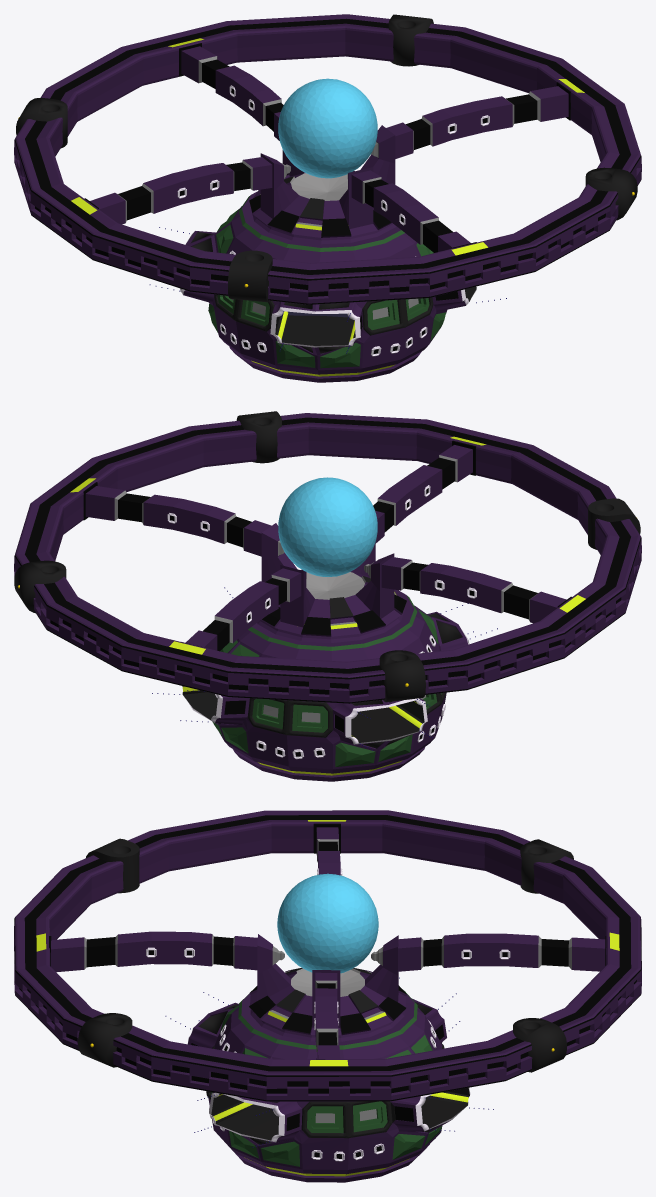
Rendered from marss01.glb.
The picture shows the model from 3 angles, top to bottom: view 1: azimuth 30°, elevation 25°; view 2: azimuth 150°, elevation 25°; view 3: azimuth 270°, elevation 25°; orthographic projection.
Parts seen in each view (by area): view 1: ring, staion, blue sun, clamp, clamp 2, clamp 3, clamp 4; view 2: ring, staion, blue sun, clamp 4, clamp 3, clamp 2, clamp; view 3: ring, staion, blue sun, clamp 2, clamp 3, clamp, clamp 4.
Part boxes in pixels (box(x1,y1,x2,y2)): ring: box(14, 14, 641, 304); staion: box(180, 191, 476, 382); blue sun: box(278, 78, 377, 178); clamp: box(228, 250, 272, 302); clamp 2: box(585, 167, 637, 220); clamp 3: box(388, 14, 433, 66); clamp 4: box(16, 97, 67, 148); ring: box(14, 413, 641, 703); staion: box(182, 591, 469, 781); blue sun: box(278, 477, 377, 576); clamp 4: box(379, 650, 425, 702); clamp 3: box(14, 560, 66, 613); clamp 2: box(236, 411, 281, 463); clamp: box(588, 498, 640, 549); ring: box(14, 810, 641, 1101); staion: box(187, 970, 470, 1182); blue sun: box(277, 873, 378, 973); clamp 2: box(78, 1013, 132, 1067); clamp 3: box(513, 1018, 566, 1072); clamp: box(86, 838, 139, 893); clamp 4: box(520, 839, 573, 893).
Size of the model in its own units: 10.3 by 5.19 by 10.3.
